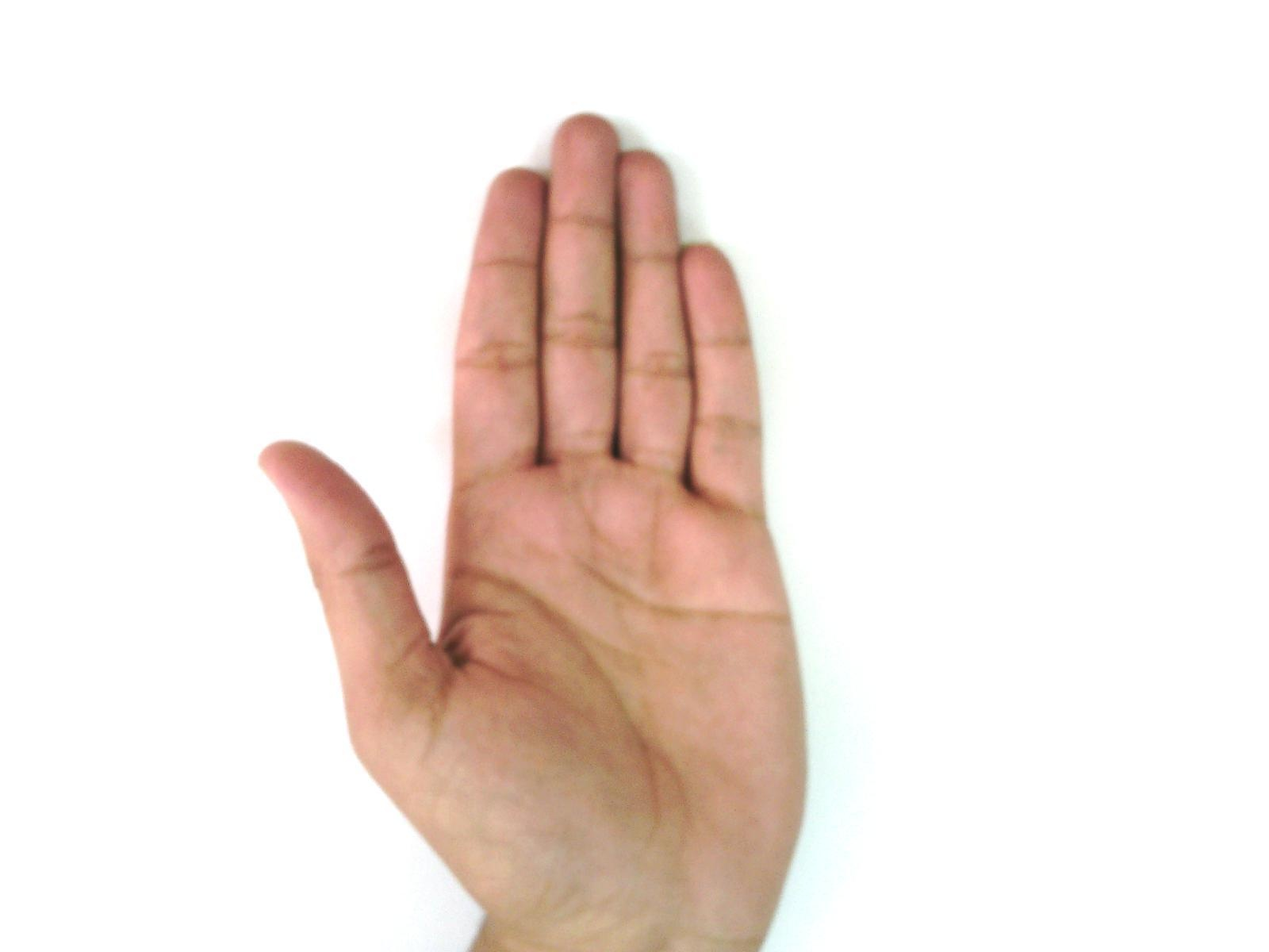open_palm: (256, 113, 814, 950)
